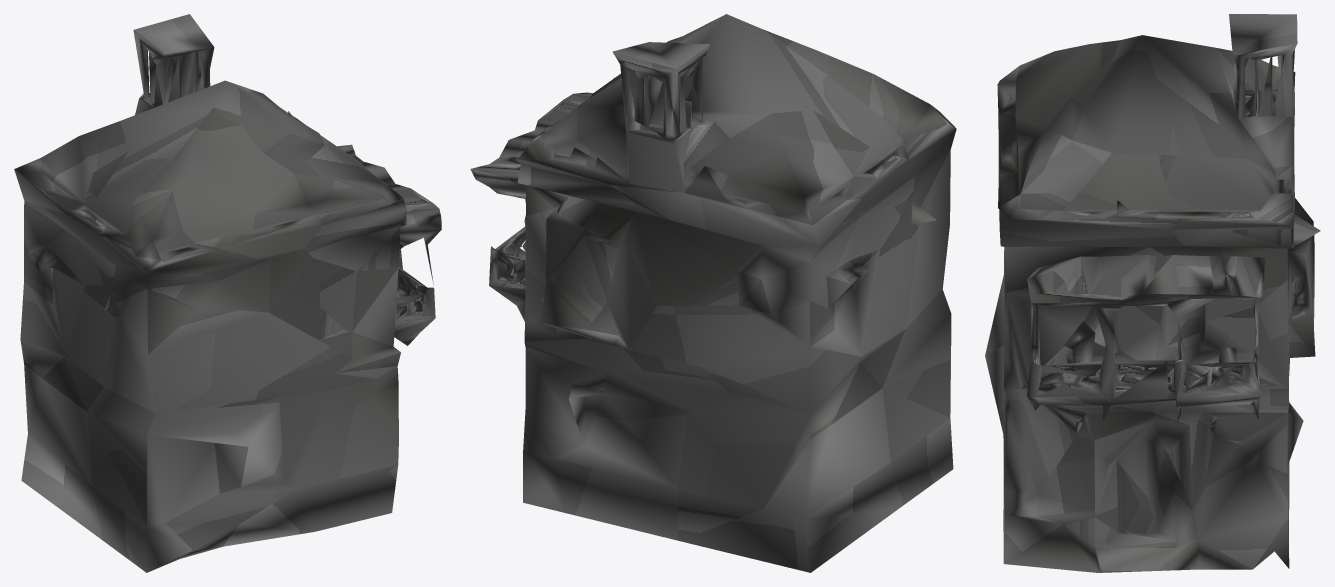
Rendered from house_merchant_0_lo.glb.
3 views of the same model, side by side, from view 1: azimuth 30°, elevation 25°; view 2: azimuth 150°, elevation 25°; view 3: azimuth 270°, elevation 25° (orthographic). The views are drawn at different scales.
Visible parts, largest first — view 1: tripo_node_e8c3637a-7642-41ce-a474-6af97cdf0c9b; view 2: tripo_node_e8c3637a-7642-41ce-a474-6af97cdf0c9b; view 3: tripo_node_e8c3637a-7642-41ce-a474-6af97cdf0c9b.
Part boxes in pixels (x1,y1,x2,y2): tripo_node_e8c3637a-7642-41ce-a474-6af97cdf0c9b: (14,14,441,572); tripo_node_e8c3637a-7642-41ce-a474-6af97cdf0c9b: (470,14,956,572); tripo_node_e8c3637a-7642-41ce-a474-6af97cdf0c9b: (985,14,1320,572).
Size of the model in its own units: 0.7598 by 0.9274 by 0.5881.
Materials: 1 (1 with a texture image).
